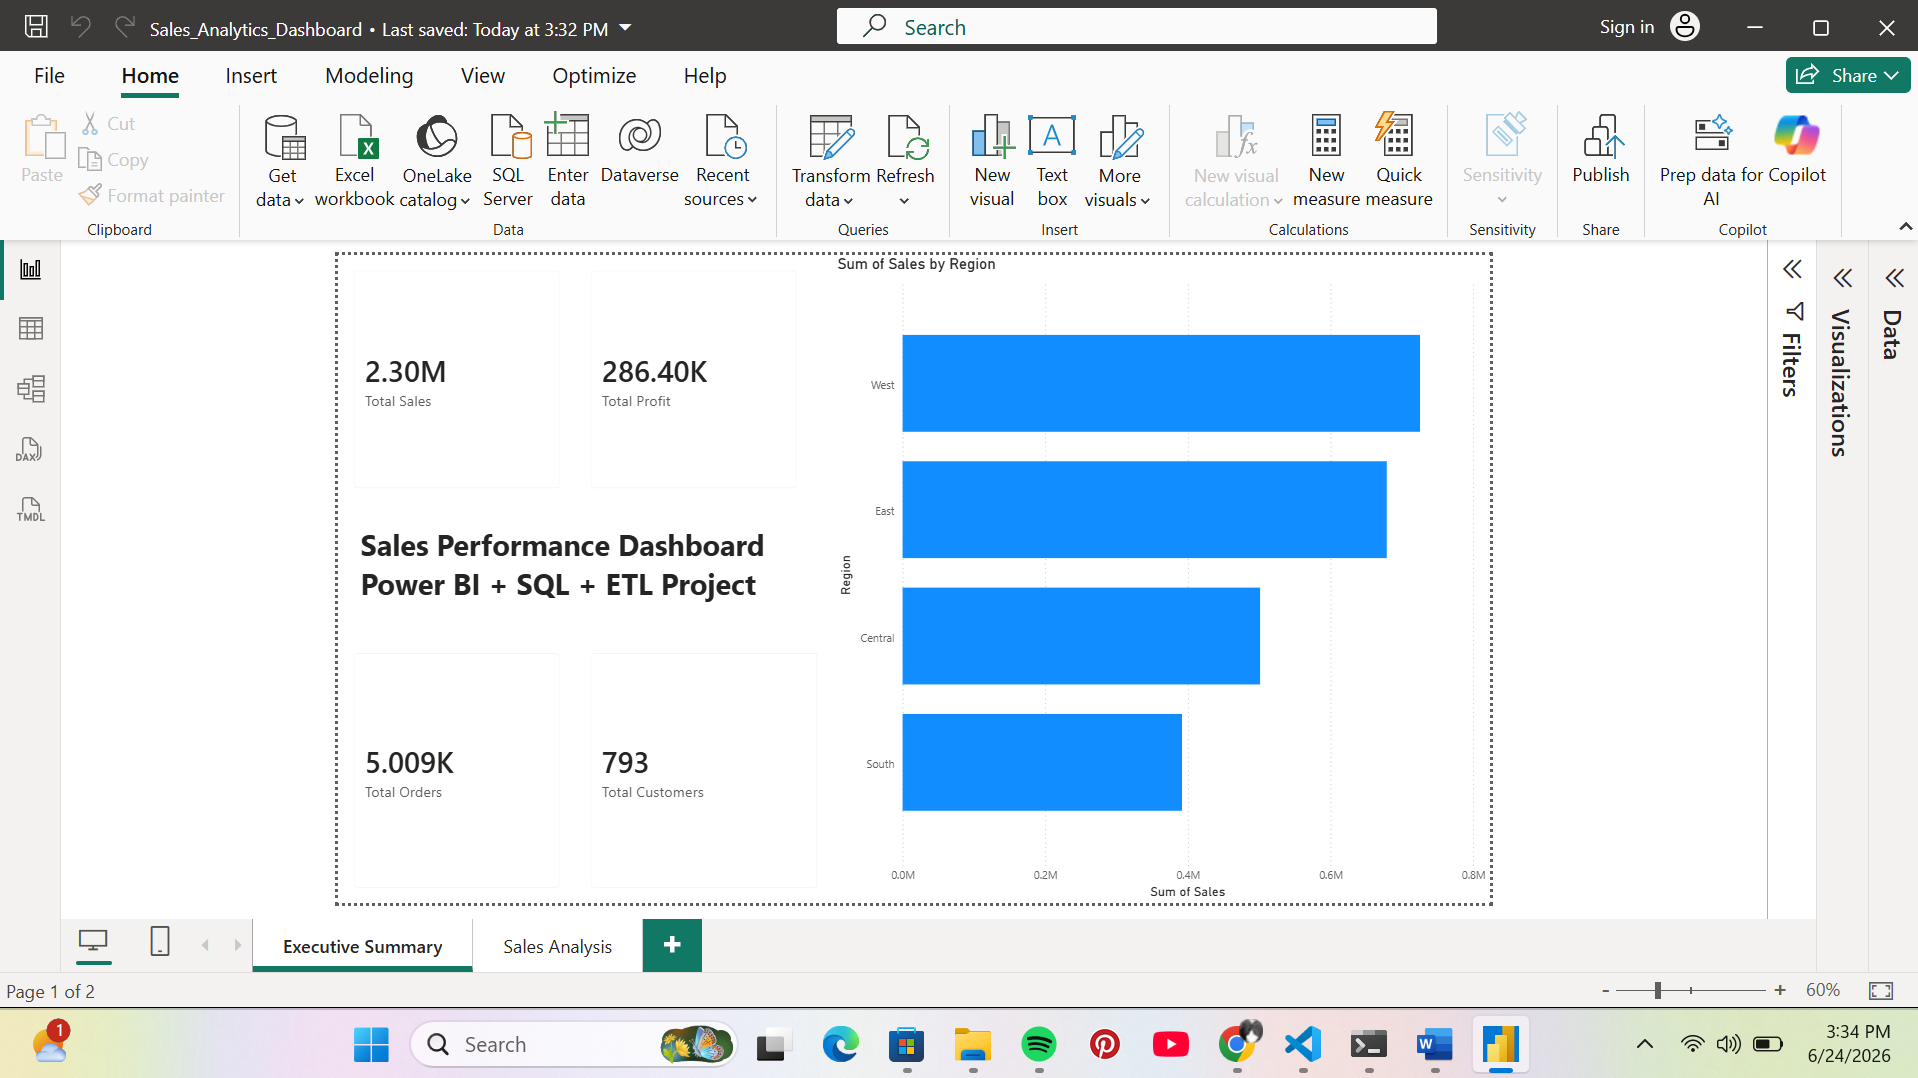

What the dashboard file says about the page in this screenshot:
{"tool":"powerbi","page":{"name":"Executive Summary","canvas":[1280,720],"ordinal":0},"visuals":[{"type":"cardVisual","fields":{"Data":["Sum(clean_sales.Sales)"]},"box":[0,0,263.3,276.7],"z":0},{"type":"cardVisual","fields":{"Data":["Sum(clean_sales.Profit)"]},"box":[263.3,0,263.3,276.7],"z":1000},{"type":"cardVisual","fields":{"Data":["Count(clean_sales.Order ID)"]},"box":[0,425,263.3,295],"z":2000},{"type":"cardVisual","fields":{"Data":["Count(clean_sales.Customer ID)"]},"box":[263.3,425,286.7,295],"z":3000},{"type":"clusteredBarChart","fields":{"Category":["clean_sales.Region"],"Y":["Sum(clean_sales.Sales)"]},"box":[550,0,730,720],"z":4000},{"type":"textbox","box":[20,276.7,506.7,148.3],"z":5000}]}

Visuals, with their boxes on the page's 1280x720 design canvas (x1, y1, x2, y2). These are canvas units, not pixel positions in the 1918x1078 screenshot, which may show the page scaled, cropped or inside an application window:
cardVisual - Sum(clean_sales.Sales): pyautogui.locateOnScreen(0, 0, 263, 277)
cardVisual - Sum(clean_sales.Profit): pyautogui.locateOnScreen(263, 0, 527, 277)
cardVisual - Count(clean_sales.Order ID): pyautogui.locateOnScreen(0, 425, 263, 720)
cardVisual - Count(clean_sales.Customer ID): pyautogui.locateOnScreen(263, 425, 550, 720)
clusteredBarChart - clean_sales.Region x Sum(clean_sales.Sales): pyautogui.locateOnScreen(550, 0, 1280, 720)
textbox: pyautogui.locateOnScreen(20, 277, 527, 425)
